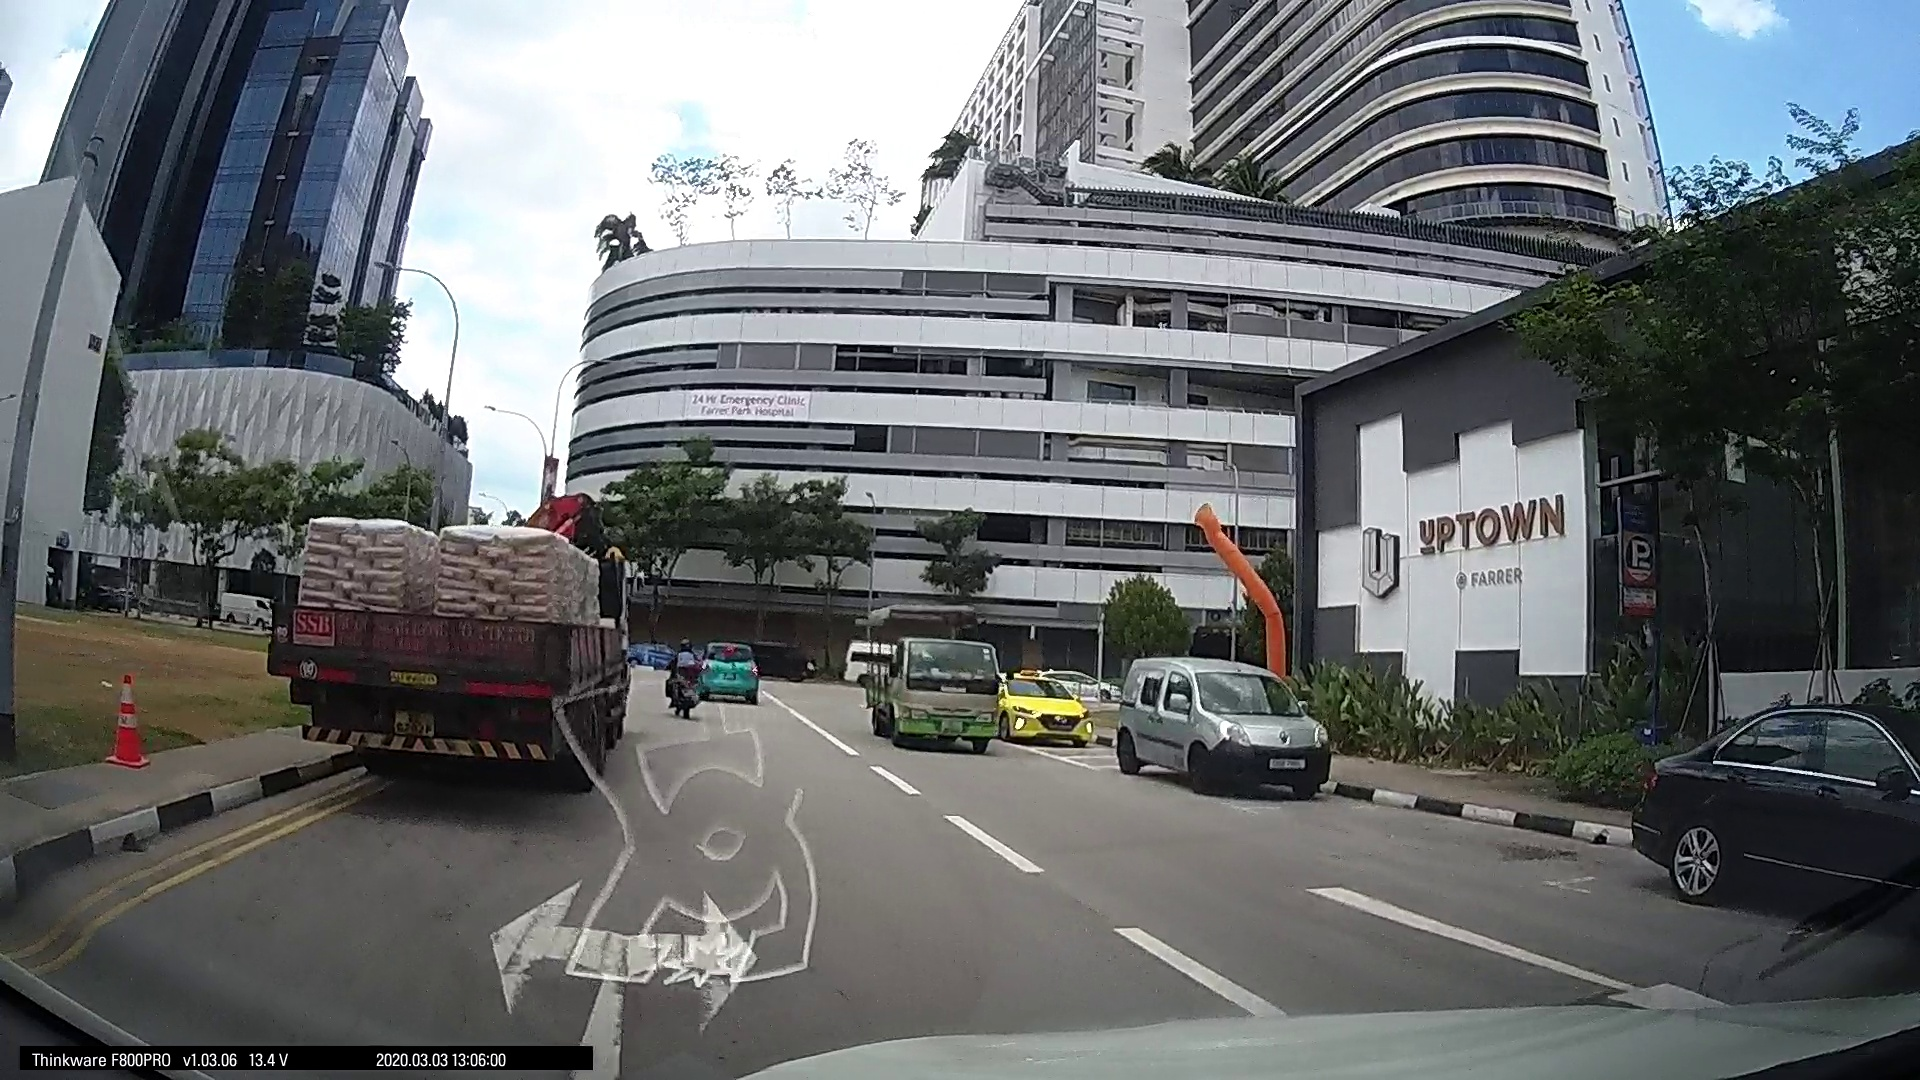Heavy Vehicle: (12, 42, 542, 988), (822, 558, 971, 731), (1273, 618, 1389, 731)
Light Vehicle: (535, 633, 827, 816), (1815, 665, 1919, 847), (773, 634, 885, 761), (1023, 626, 1071, 683), (1127, 638, 1175, 684)
